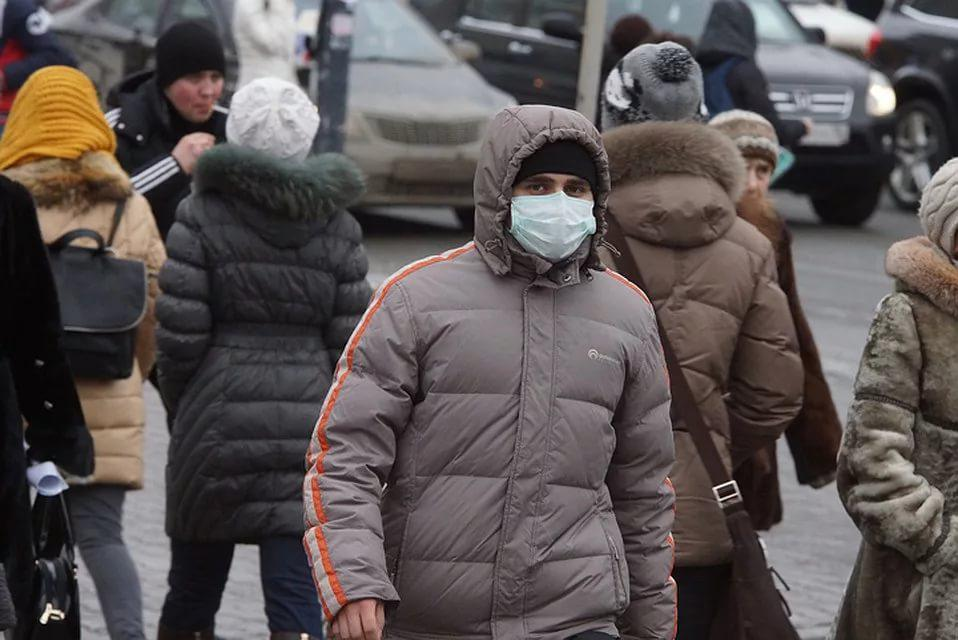mask: (508, 154, 594, 255)
none: (172, 59, 226, 121), (730, 143, 776, 201)
